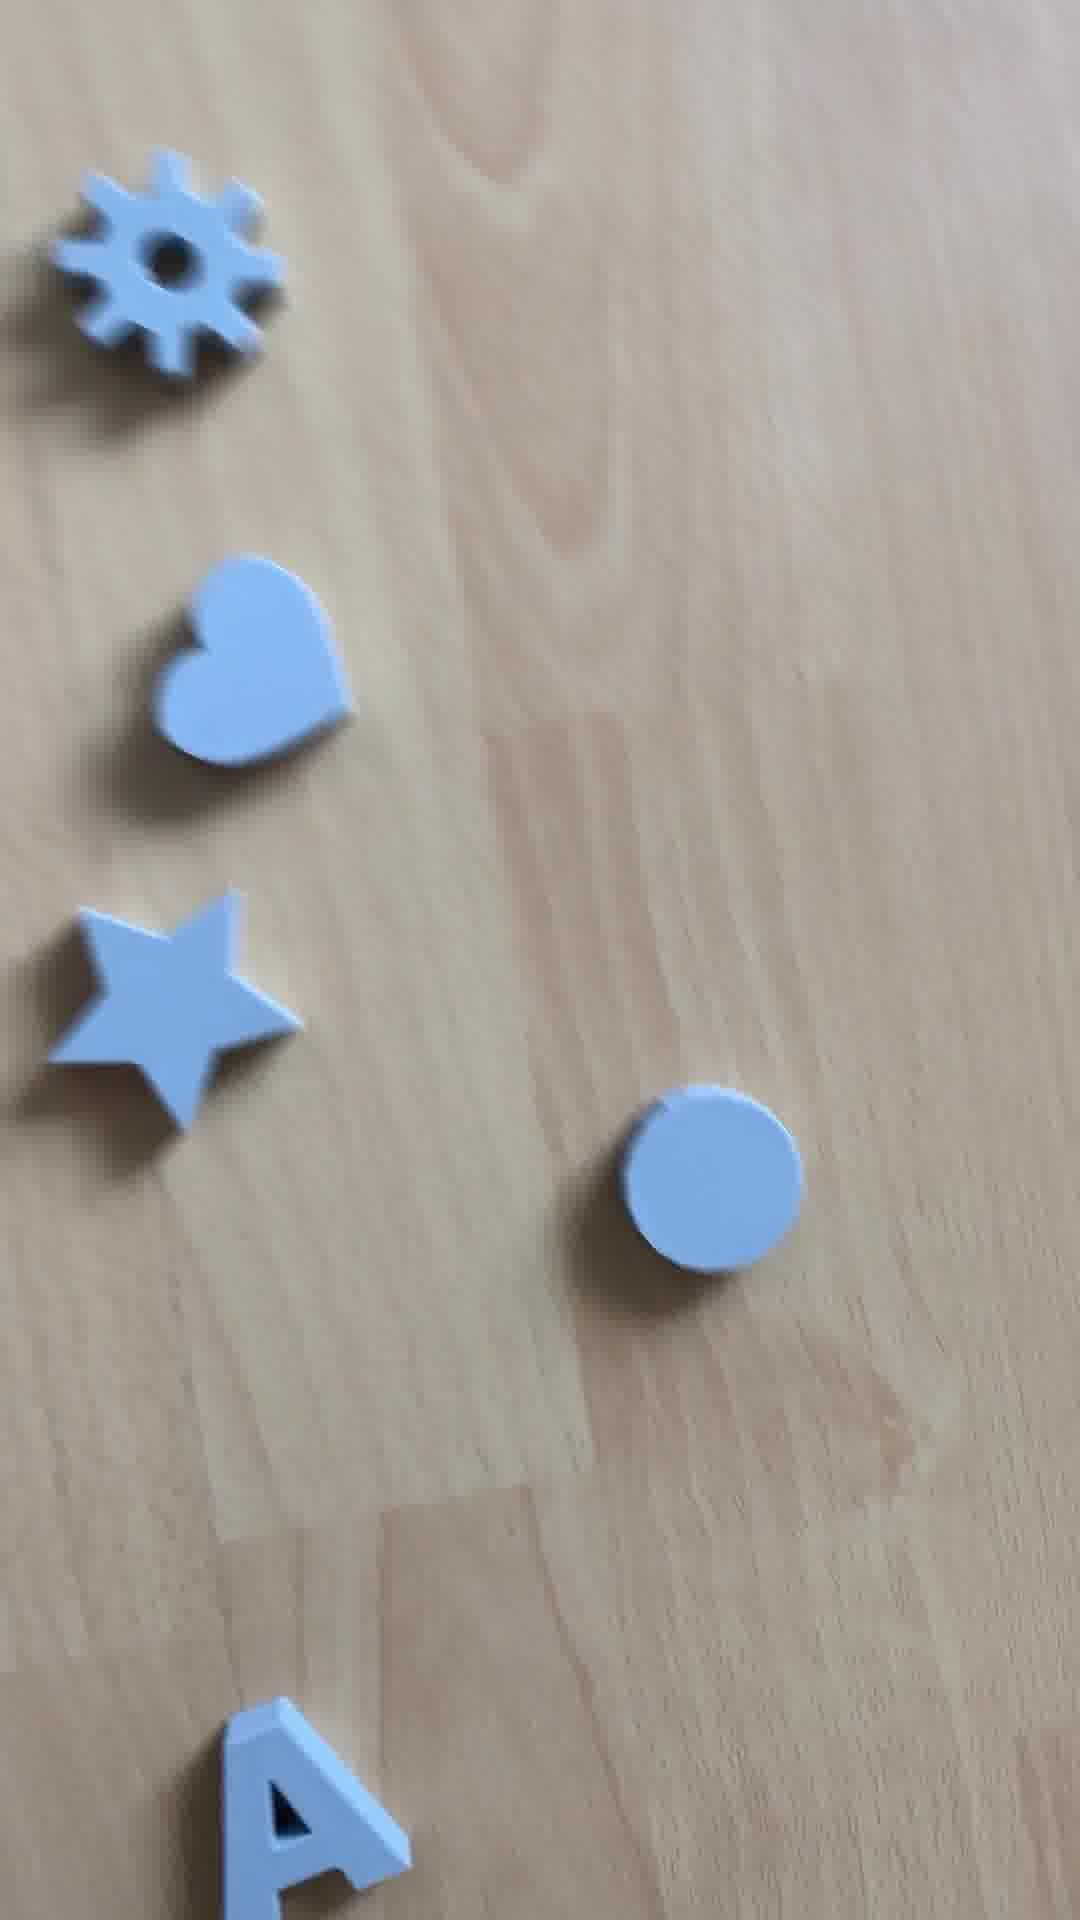Gray A-letter: (175, 1675, 429, 1920)
Gray circle: (622, 1081, 800, 1280)
Gray gear: (36, 142, 307, 389)
Gray heart: (146, 555, 372, 777)
Gray star: (41, 884, 299, 1138)
